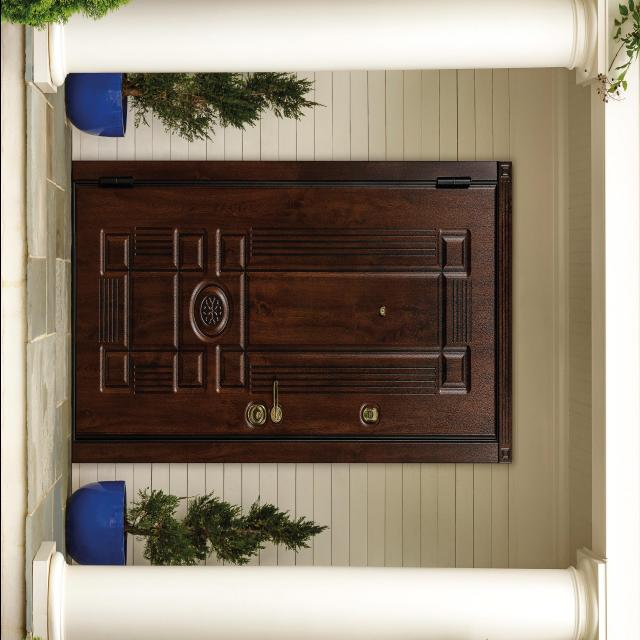close: (76, 157, 507, 460)
